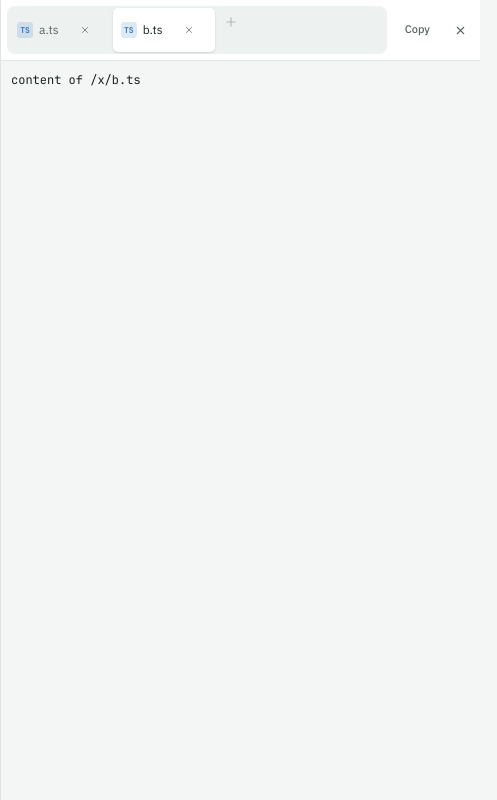
RightDock › supports multiple file tabs; closing one keeps the others
Expected: the text "a.ts" is shown once, [39,21,59,39]
Expected: the text "b.ts" is shown once, [143,21,163,39]
Click the button named "Close b.ts" at (188, 30), box [170,12,206,48]
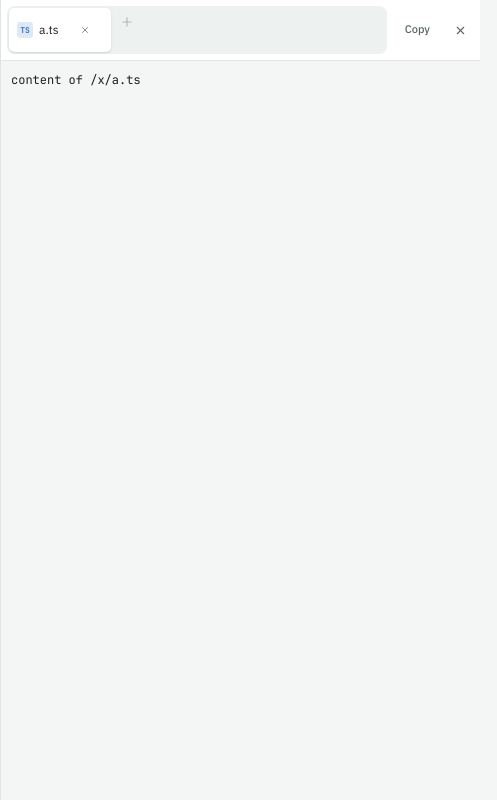
Result: the text "content of /x/a.ts" is shown at [11,72,141,88]
